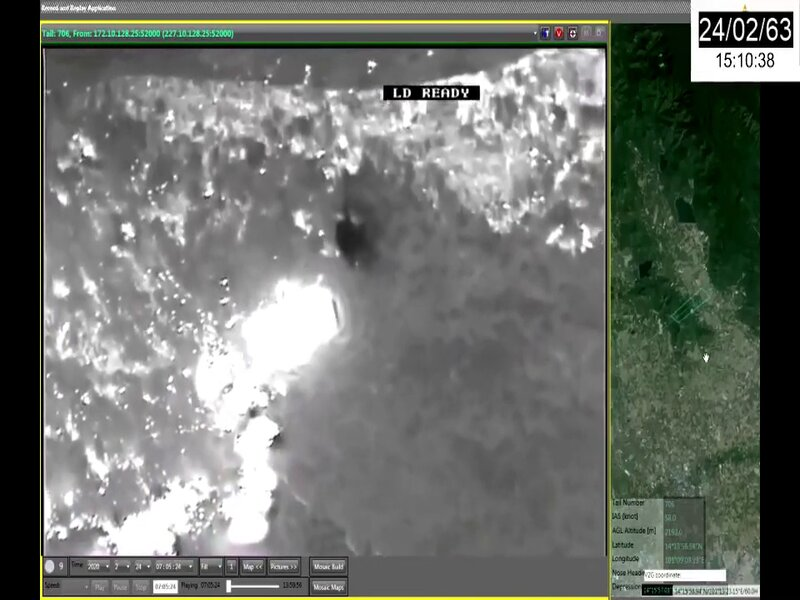Fire: (96, 274, 349, 555)
